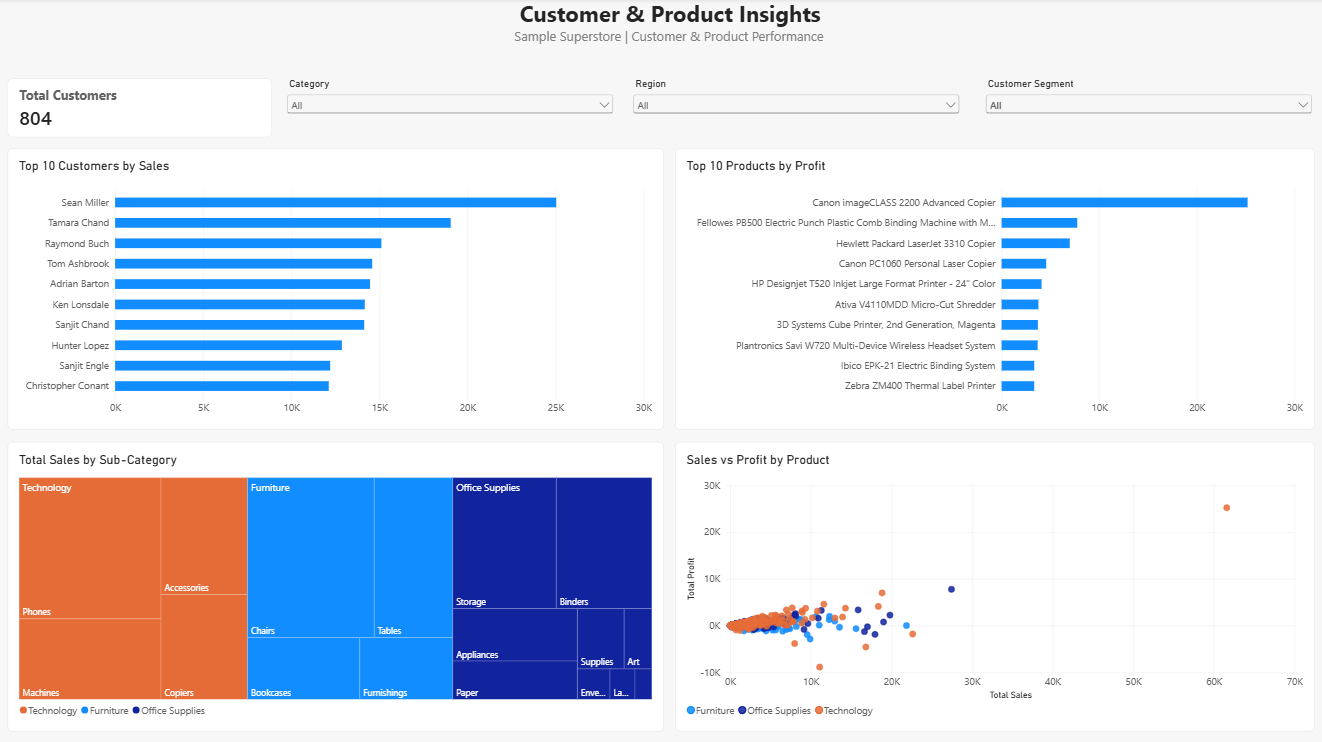

The page's visual inventory and layout, read from the dashboard file:
{"tool":"powerbi","page":{"name":"Customer & Product Insights","canvas":[1920,1080],"ordinal":1},"visuals":[{"type":"textbox","box":[10,0,1910,78],"z":0},{"type":"clusteredBarChart","title":"Top 10 Customers by Sales","fields":{"Category":["Orders.Customer Name"],"Y":["Orders.Total Sales"]},"box":[10,218,950,408],"z":1000},{"type":"clusteredBarChart","title":"Top 10 Products by Profit","fields":{"Category":["Orders.Product Name"],"Y":["Orders.Total Profit"]},"box":[978,218,926,408],"z":2000},{"type":"treemap","title":"Total Sales by Sub-Category","fields":{"Details":["Orders.Sub-Category"],"Group":["Orders.Category"],"Values":["Orders.Total Sales"]},"box":[10,642,950,420],"z":3000},{"type":"scatterChart","title":"Sales vs Profit by Product","fields":{"Category":["Orders.Product Name"],"Series":["Orders.Category"],"X":["Orders.Total Sales"],"Y":["Orders.Total Profit"]},"box":[978,642,926,420],"z":4000},{"type":"cardVisual","fields":{"Data":["Orders.Total Customers"]},"box":[10,116.7,383.3,86.7],"z":5000},{"type":"slicer","fields":{"Values":["Orders.Category"]},"box":[410,116,482,88],"z":6000},{"type":"slicer","fields":{"Values":["Orders.Region"]},"box":[912,116,482,88],"z":7000},{"type":"slicer","fields":{"Values":["Orders.Segment"]},"box":[1422,116,482,88],"z":8000}]}

Visuals, with their boxes in screenshot pixels (x1, y1, x2, y2), scaled from the page's 1920x1080 canvas onto the 1322x742 screenshot:
textbox: (7,0,1321,54)
"Top 10 Customers by Sales" clusteredBarChart: (7,150,661,430)
"Top 10 Products by Profit" clusteredBarChart: (673,150,1311,430)
"Total Sales by Sub-Category" treemap: (7,441,661,730)
"Sales vs Profit by Product" scatterChart: (673,441,1311,730)
cardVisual - Orders.Total Customers: (7,80,271,140)
slicer - Orders.Category: (282,80,614,140)
slicer - Orders.Region: (628,80,960,140)
slicer - Orders.Segment: (979,80,1311,140)
